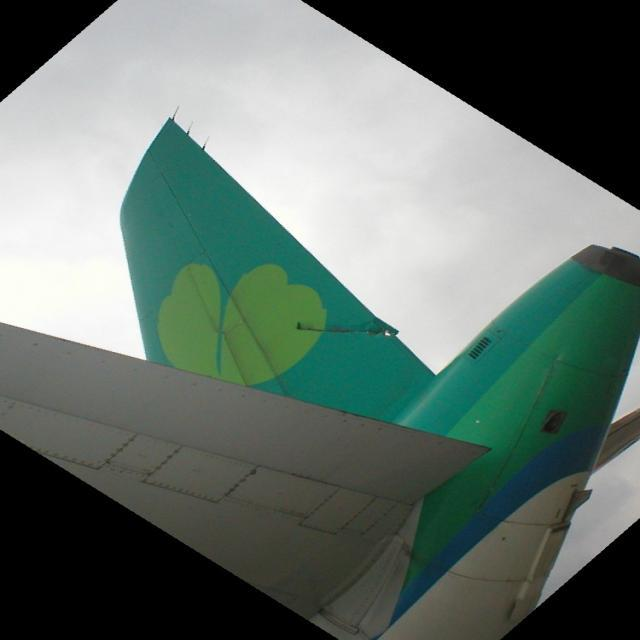crack: (296, 324, 403, 338)
